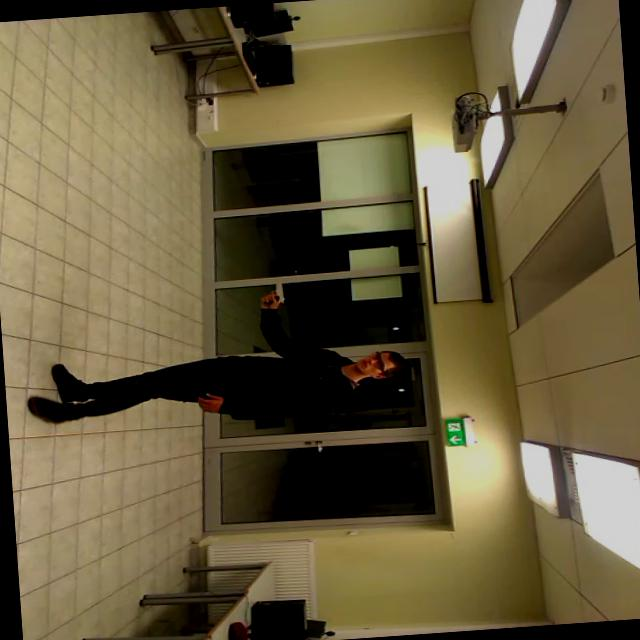handgun: (248, 272, 297, 318)
